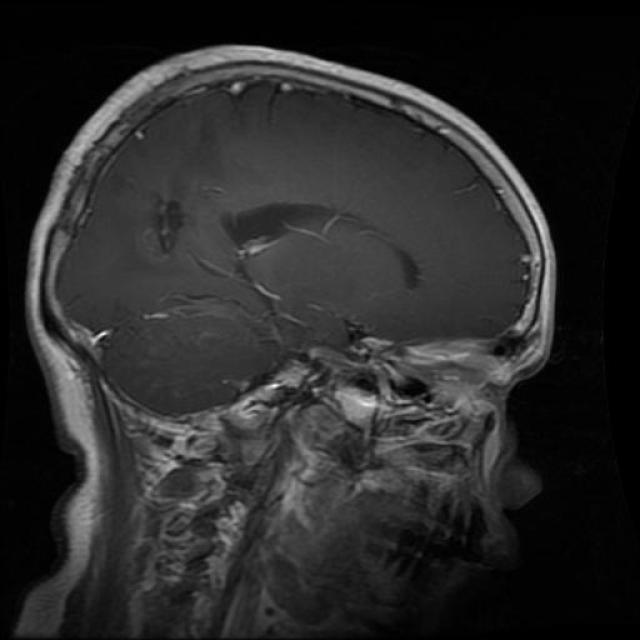glioma: (223, 198, 428, 288)
